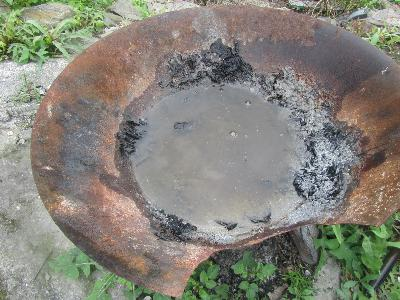bowl: (28, 6, 400, 295)
